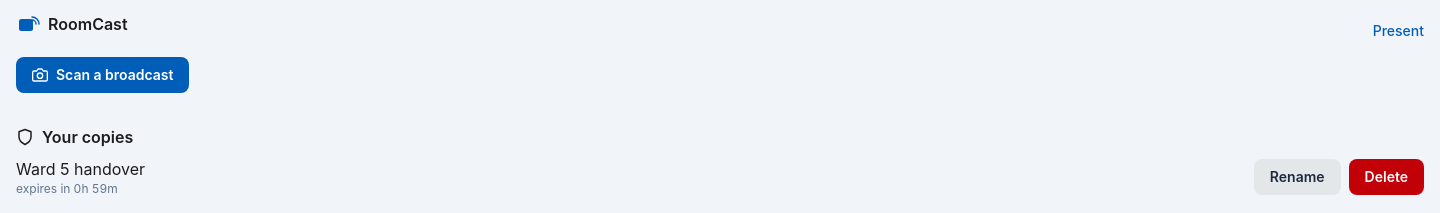
Test: ReaderApp copy management › deletes a saved copy from Your copies after confirming
Expected: the button "Ward 5 handover" is shown, [16, 157, 1246, 181]
Click the button "Delete" at (1386, 177), box [1349, 159, 1424, 195]
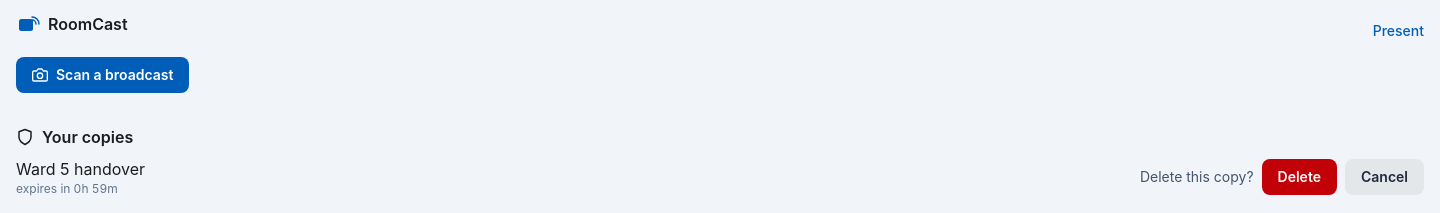
Expected: the text "Delete this copy?" is shown, [1140, 167, 1254, 187]
Click the button "Delete" at (1299, 177), box [1262, 159, 1337, 195]
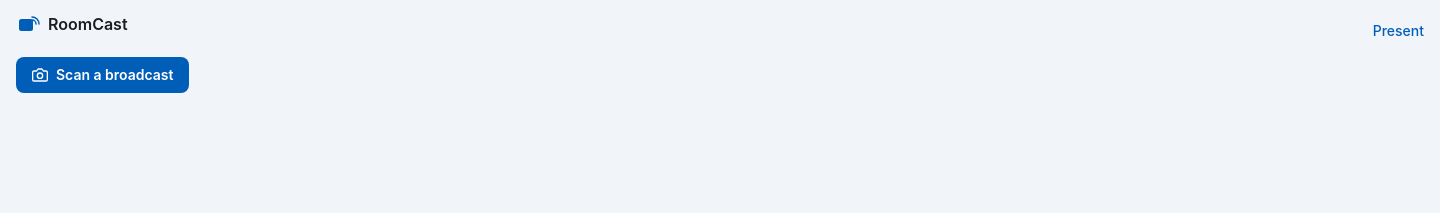
Expected: the button "Ward 5 handover" is gone
